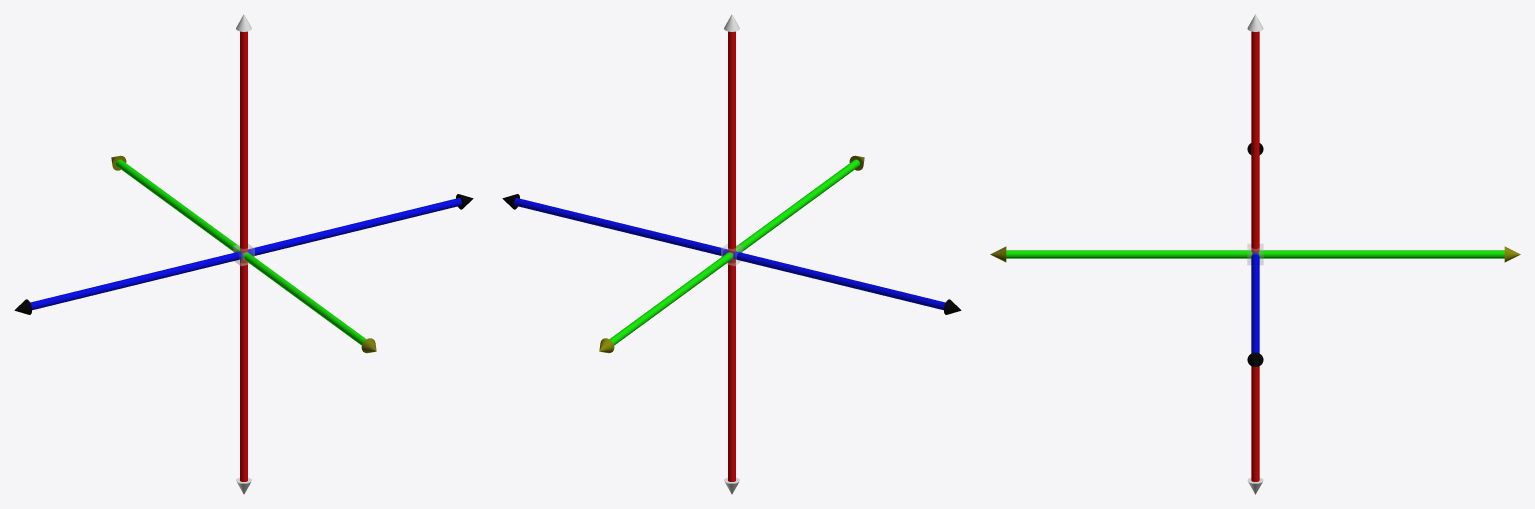
The model's file is Pivit_Origin2.glb.
3 views of the same model, side by side, from view 1: azimuth 30°, elevation 25°; view 2: azimuth 150°, elevation 25°; view 3: azimuth 270°, elevation 25° (orthographic).
Visible parts, largest first — view 1: Cylinder.002, Cylinder, Cylinder.001; view 2: Cylinder.002, Cylinder, Cylinder.001; view 3: Cylinder.001, Cylinder, Cylinder.002.
Boxes of the visible parts, <box> form: Cylinder.002: <box>30,198,461,310</box>; Cylinder: <box>240,31,247,481</box>; Cylinder.001: <box>116,159,366,345</box>; Cylinder.002: <box>514,198,945,310</box>; Cylinder: <box>728,31,735,481</box>; Cylinder.001: <box>609,159,859,345</box>; Cylinder.001: <box>1006,250,1504,258</box>; Cylinder: <box>1251,31,1259,481</box>; Cylinder.002: <box>1251,252,1259,353</box>.
Size of the model in its own units: 66 by 66 by 66.
